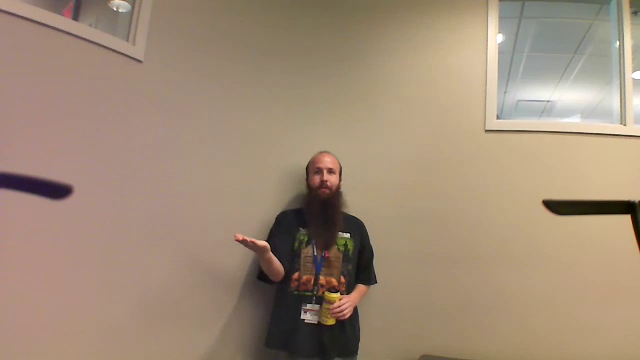land: (222, 228, 276, 257)
